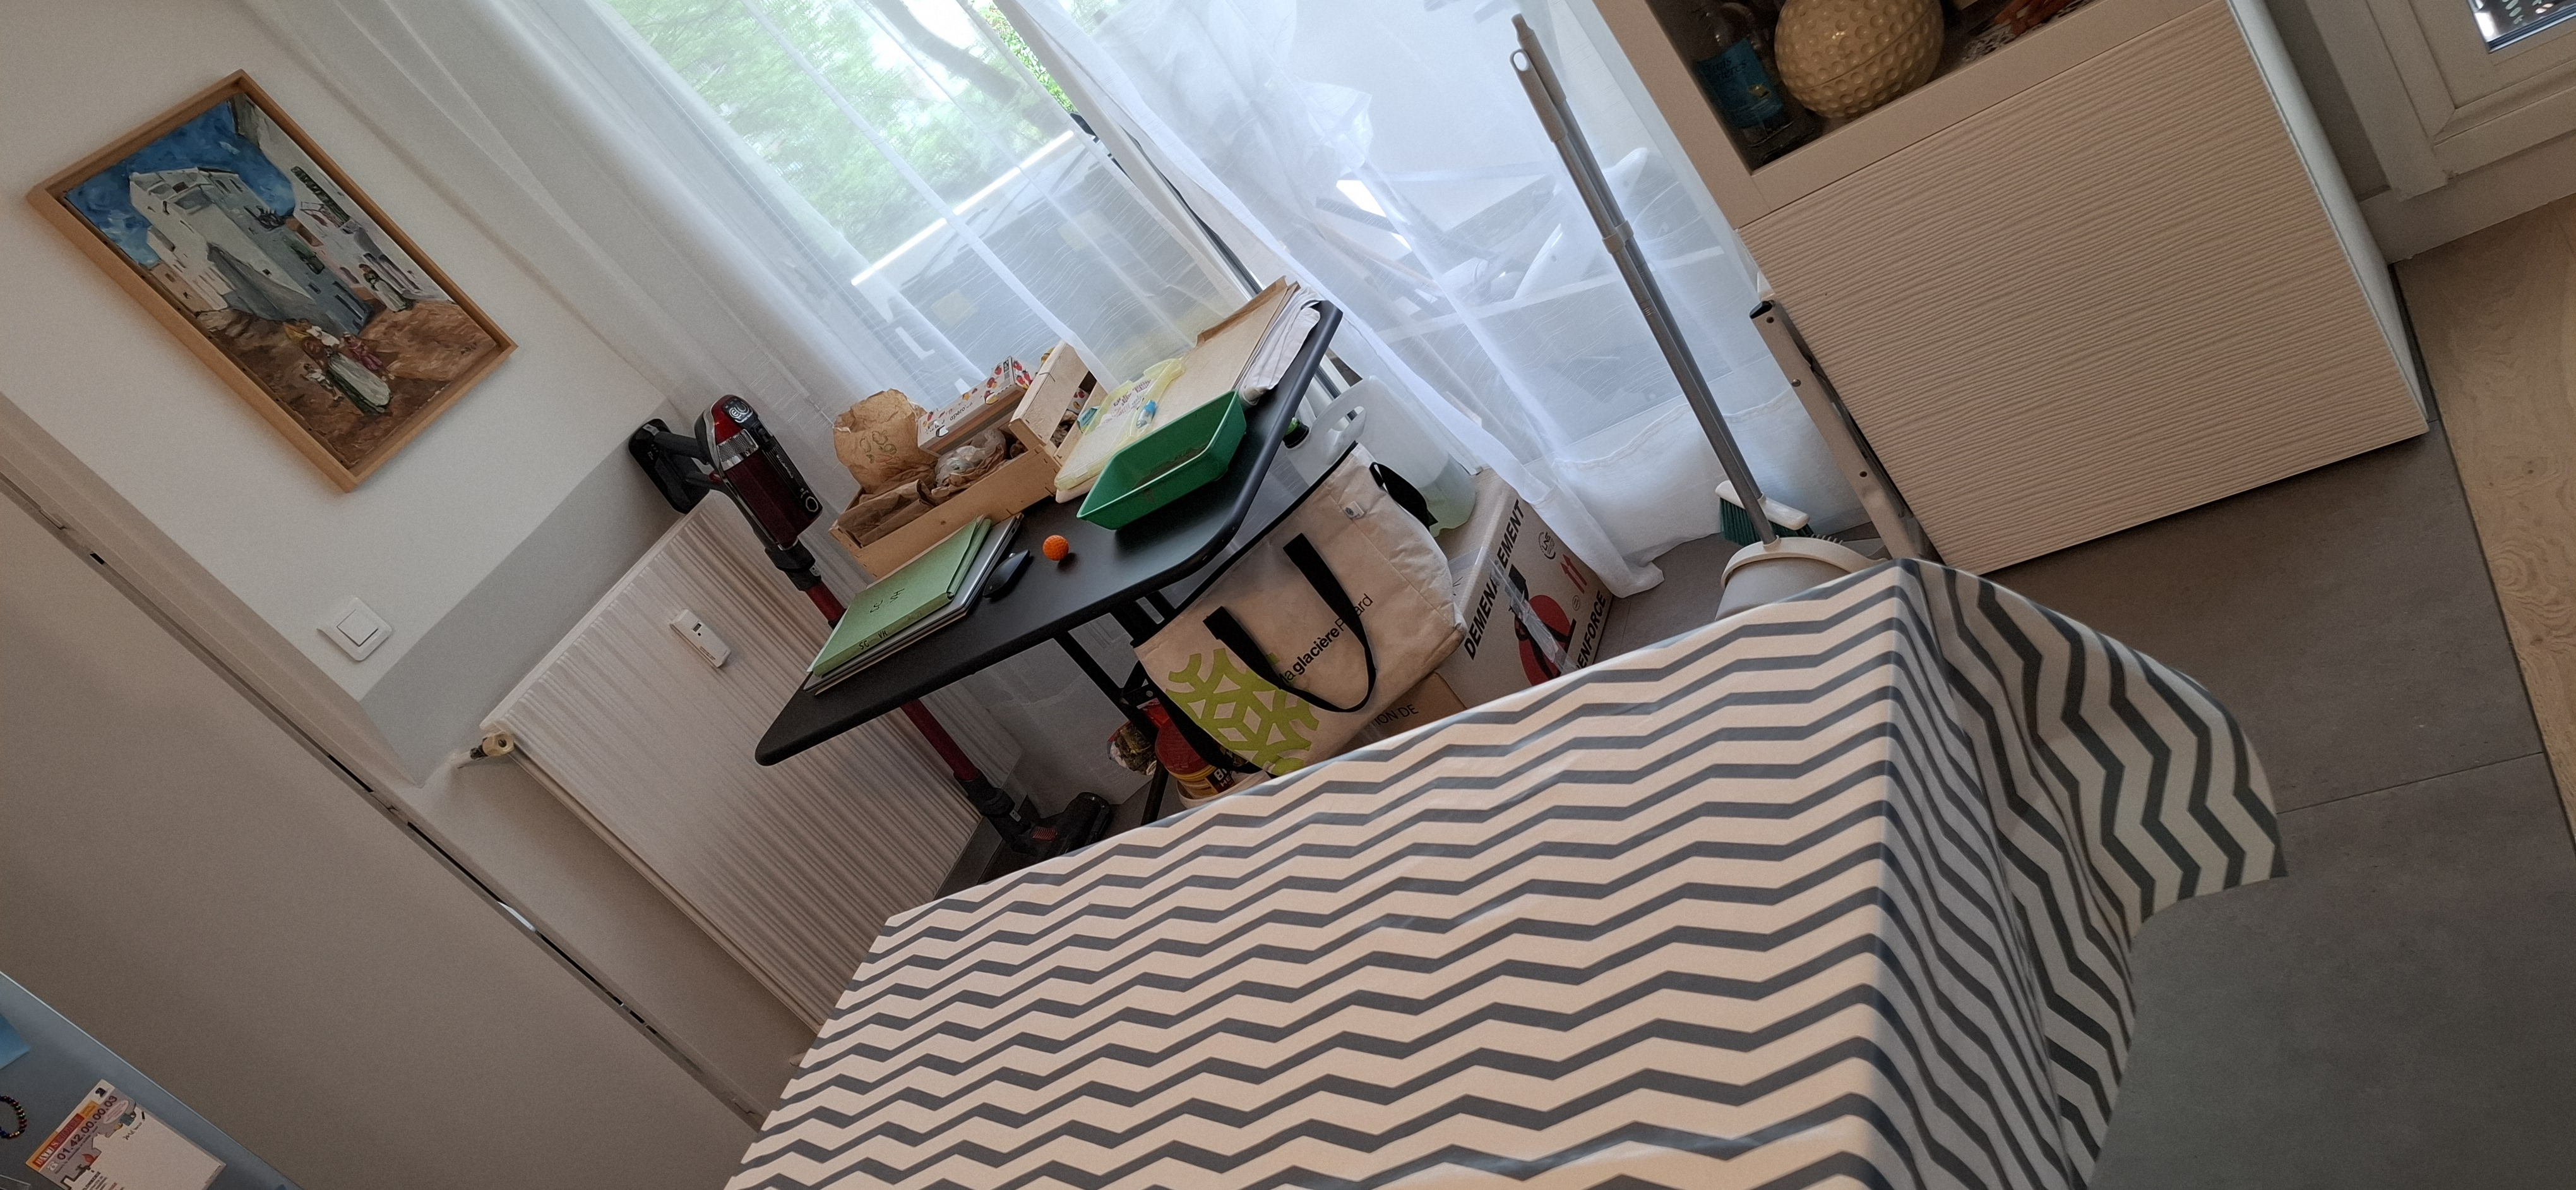ball: (1043, 536, 1069, 560)
